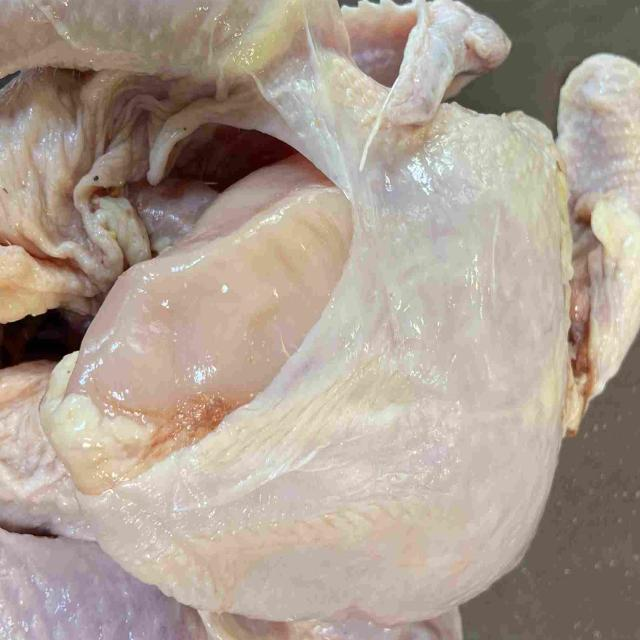breast: (55, 105, 570, 628)
leg: (0, 523, 294, 640)
neck: (559, 52, 640, 421)
wing: (345, 4, 509, 150)
